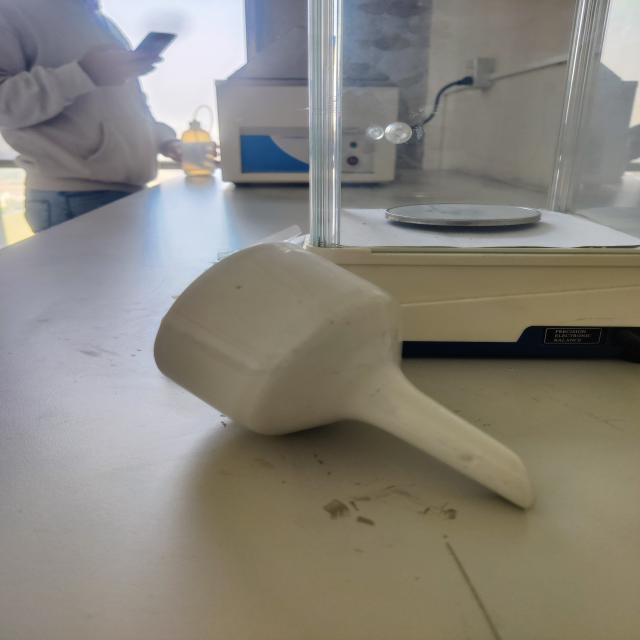Buchner_Funnel: (122, 229, 582, 545)
